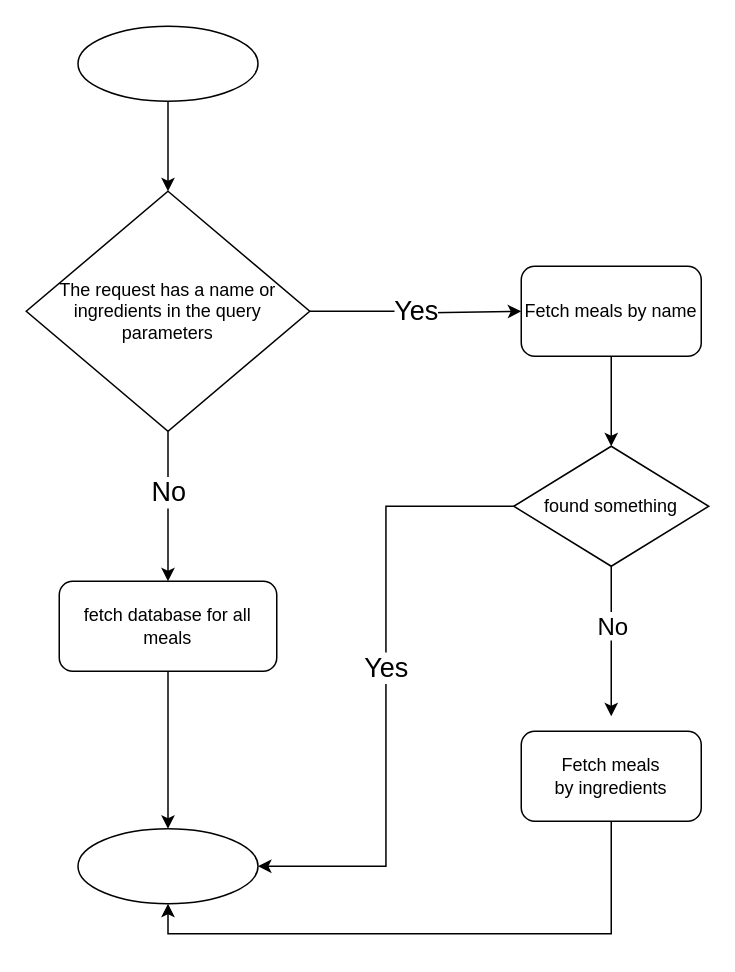
Some shapes in this 735 by 972 pixel diagram are drawn without their labels. Each missing label, with the centre of its shape:
"Request" goes at point 167,63.
"Response" goes at point 167,865.
